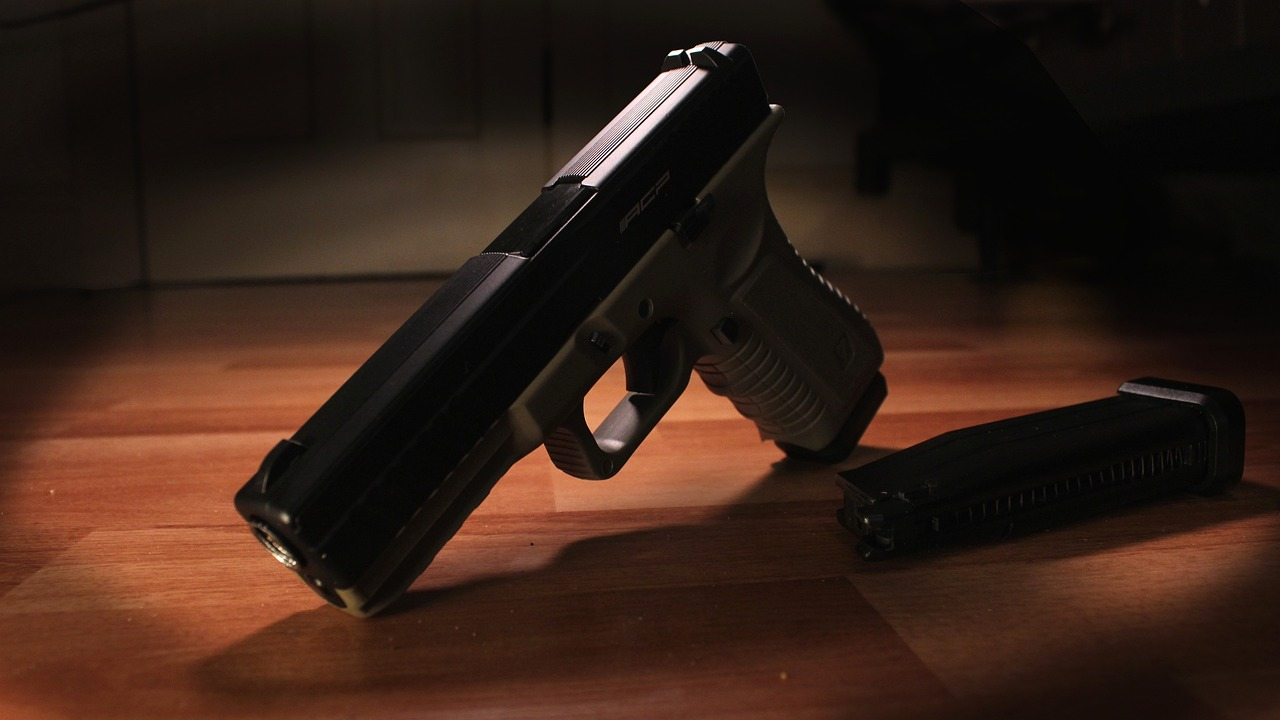gun: (229, 31, 894, 623)
